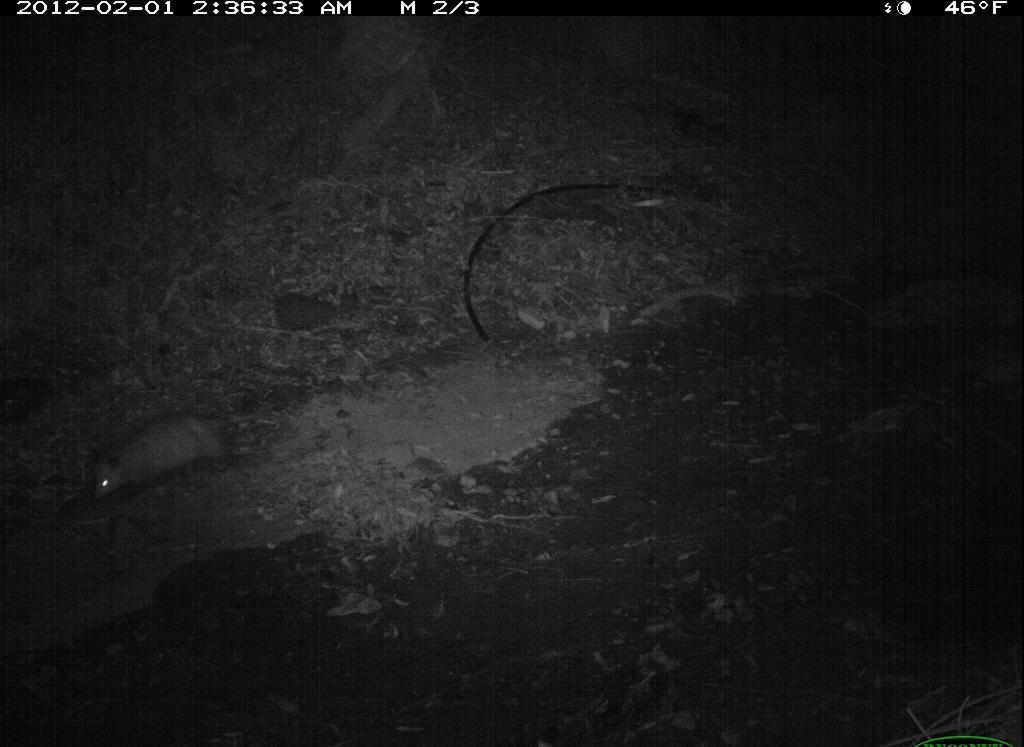opossum: (80, 400, 282, 510)
